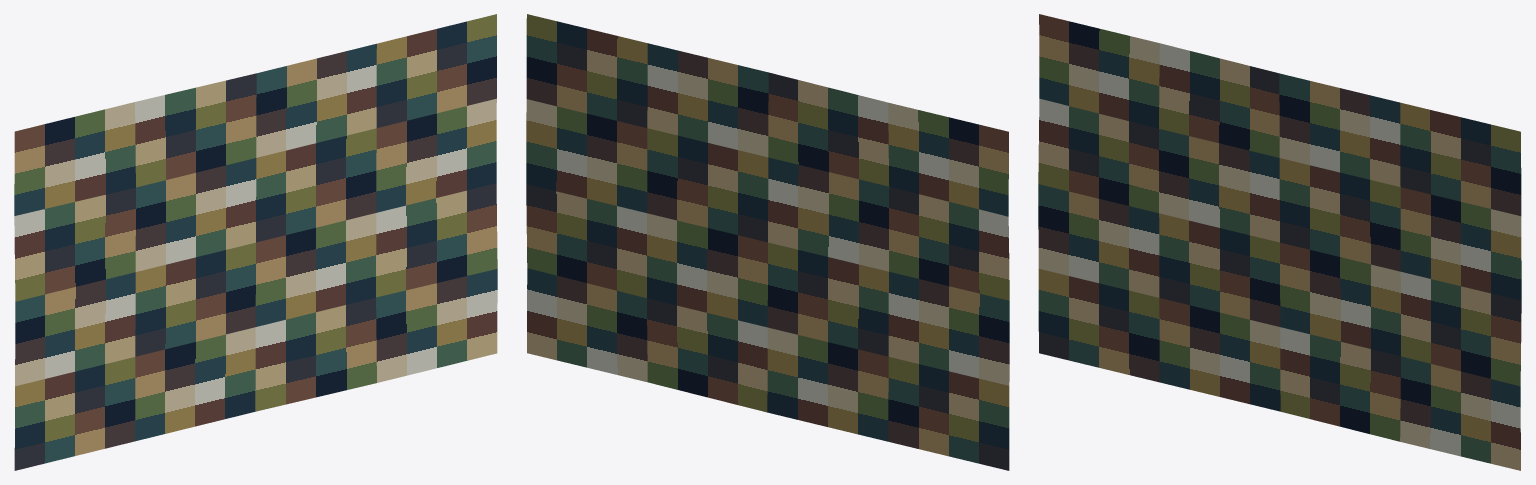
The picture shows the model from 3 angles, left to right: view 1: azimuth 30°, elevation 25°; view 2: azimuth 150°, elevation 25°; view 3: azimuth 330°, elevation 25°; orthographic projection.
Size of the model in its own units: 5773 by 3880 by 24.42.
1 material, 1 textured.
